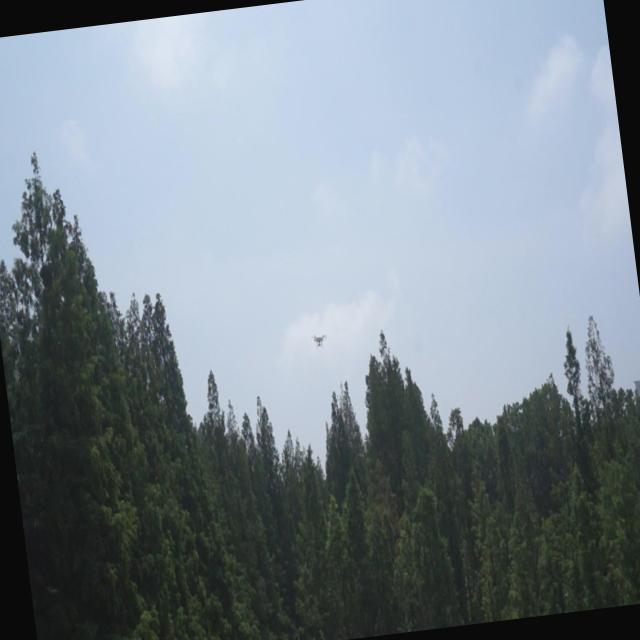drone: (308, 328, 330, 356)
